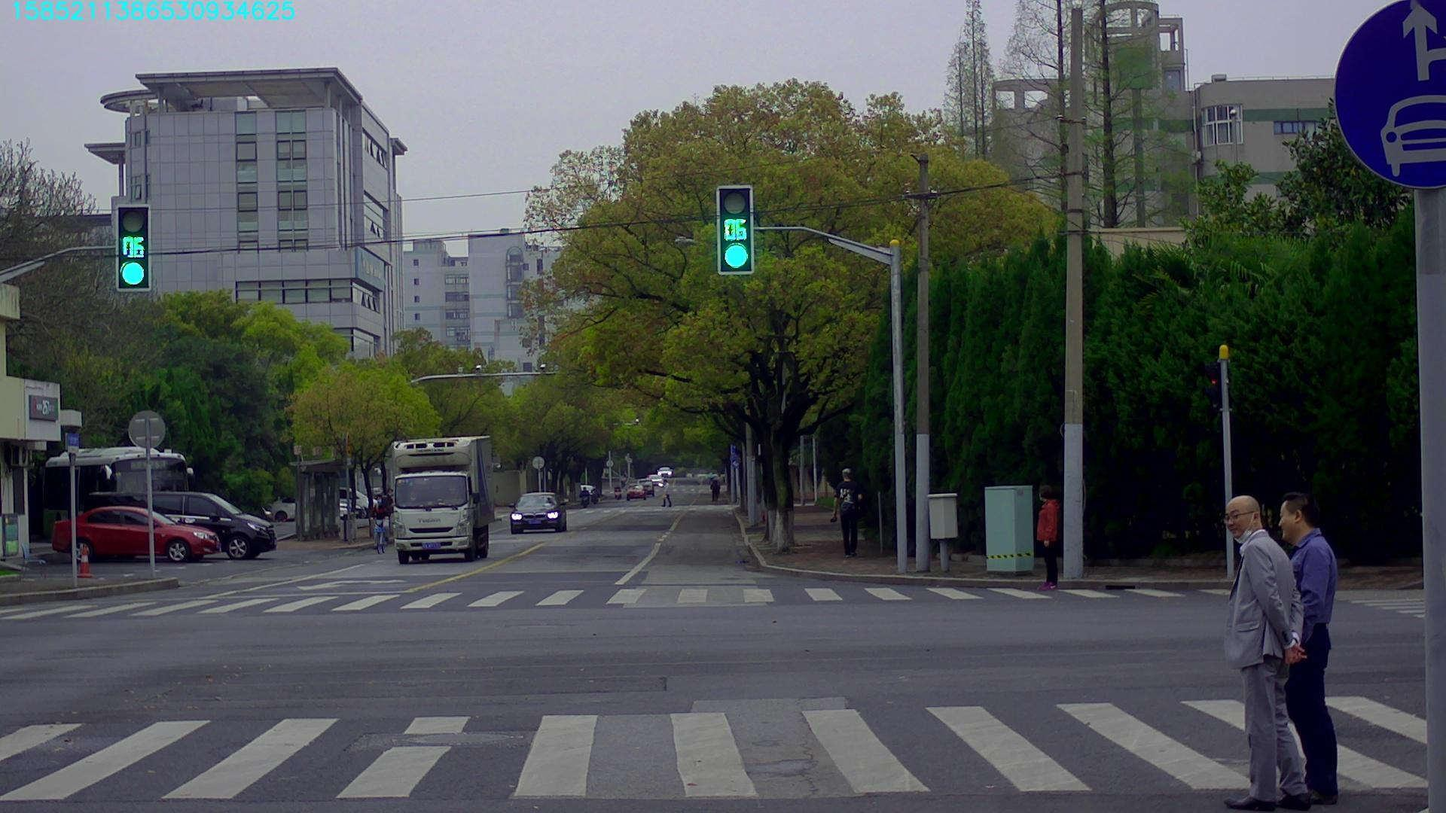green: (718, 187, 751, 273), (117, 206, 148, 290)
